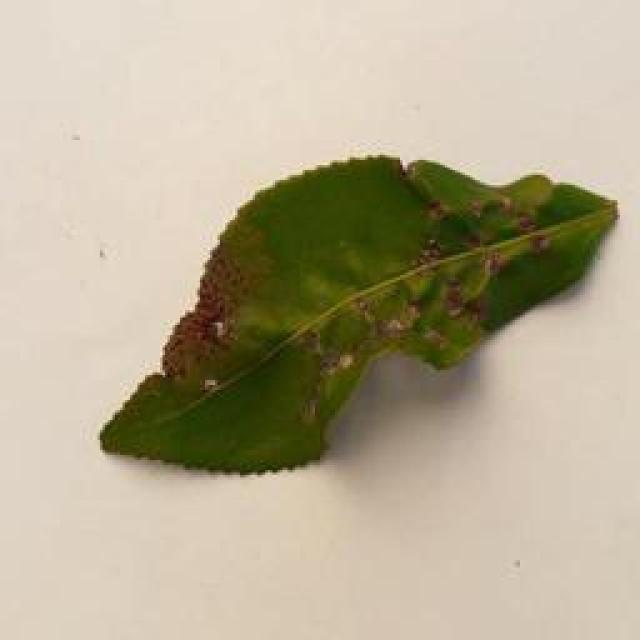Helopeltis: (89, 147, 640, 493)
